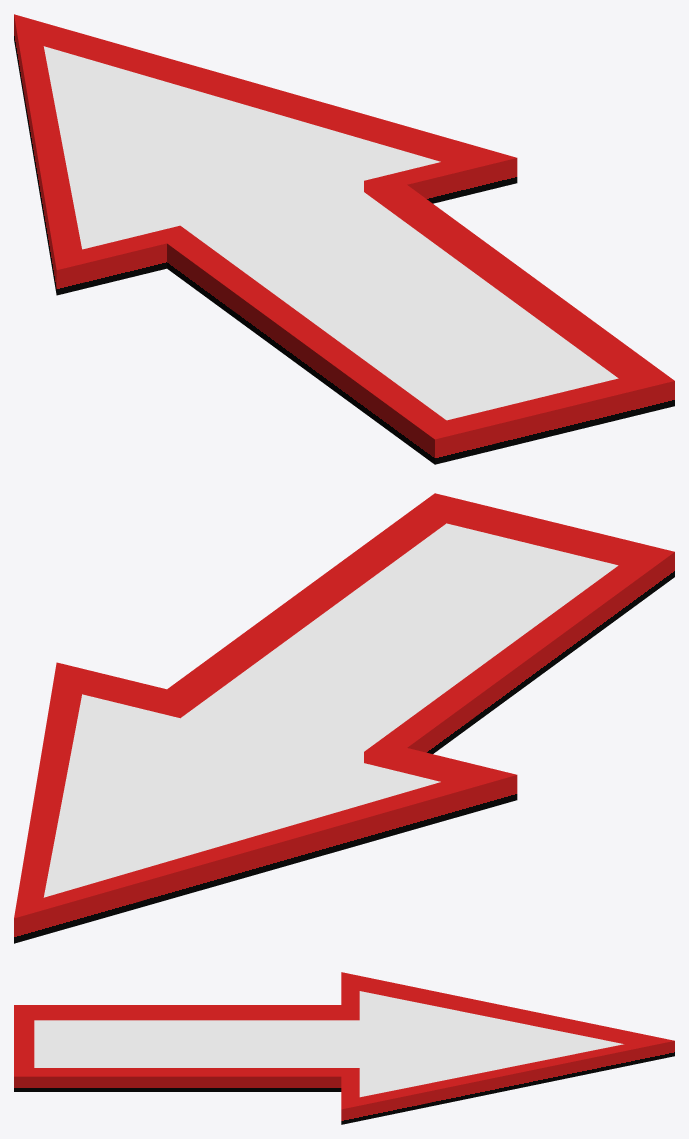
Rendered from Nav_Arrow.fbx.
3 views of the same model, one above another, from view 1: azimuth 30°, elevation 25°; view 2: azimuth 150°, elevation 25°; view 3: azimuth 270°, elevation 25° (orthographic). The views are drawn at different scales.
Parts seen in each view (by area): view 1: RoadMarking_Arrow; view 2: RoadMarking_Arrow; view 3: RoadMarking_Arrow.
Part boxes in pixels (bbox=[...]): RoadMarking_Arrow: bbox=[14, 14, 674, 464]; RoadMarking_Arrow: bbox=[14, 493, 674, 943]; RoadMarking_Arrow: bbox=[14, 972, 674, 1124].
Bounding box in the file's own units: 139 × 7.31 × 284.
1 material, 1 textured.
